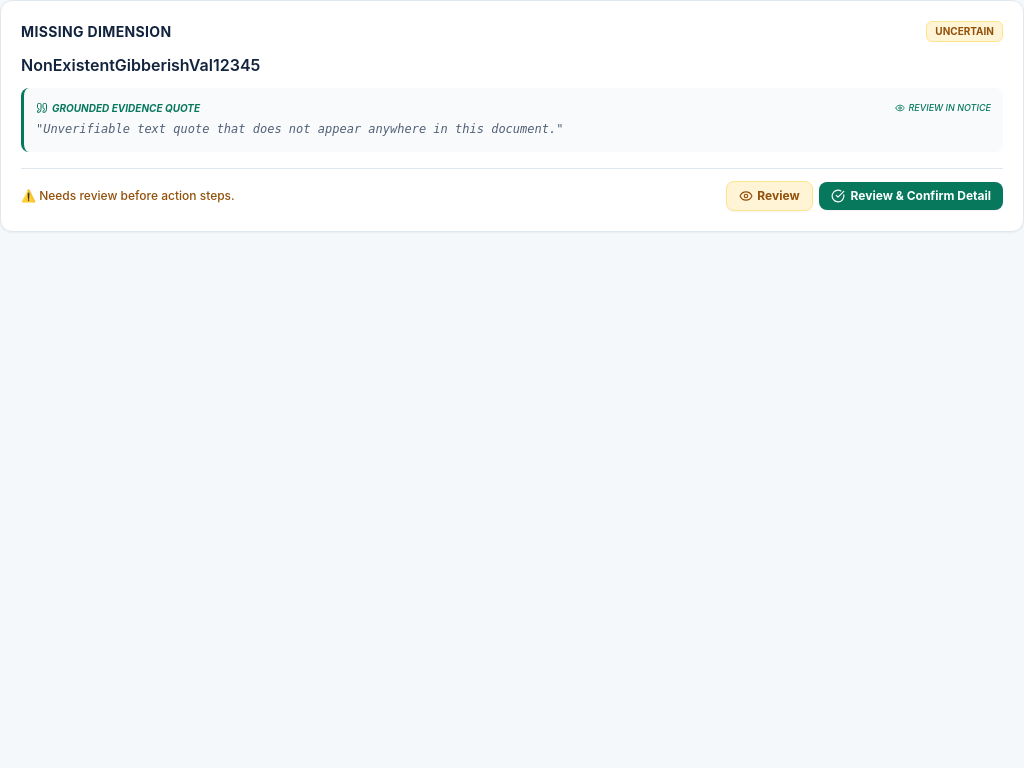
Click-to-Review Red Underline for OCR Notice Text › displays “Could not locate this text in the original notice” and no red underline when text cannot be found
Click the button with test id "review-btn-missing_field".
click(769, 196)  # box [726,181,813,211]
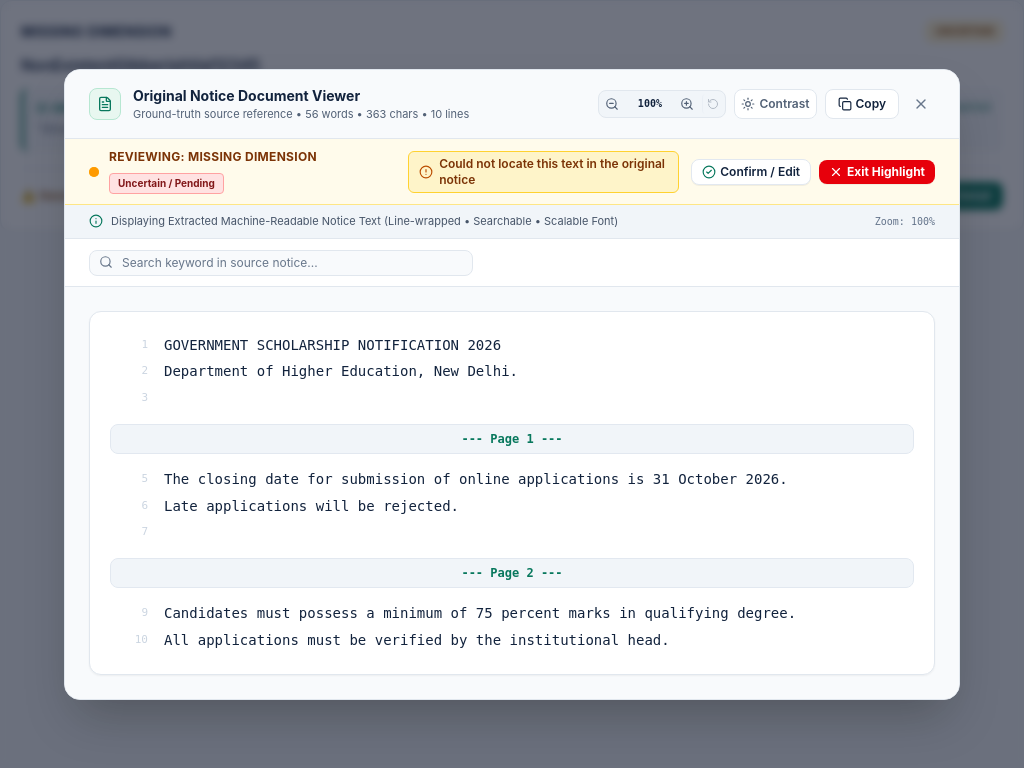
Result: the element with test id "review-not-found-message" reads "Could not locate this text in the original notice" at [439,156,665,186]
